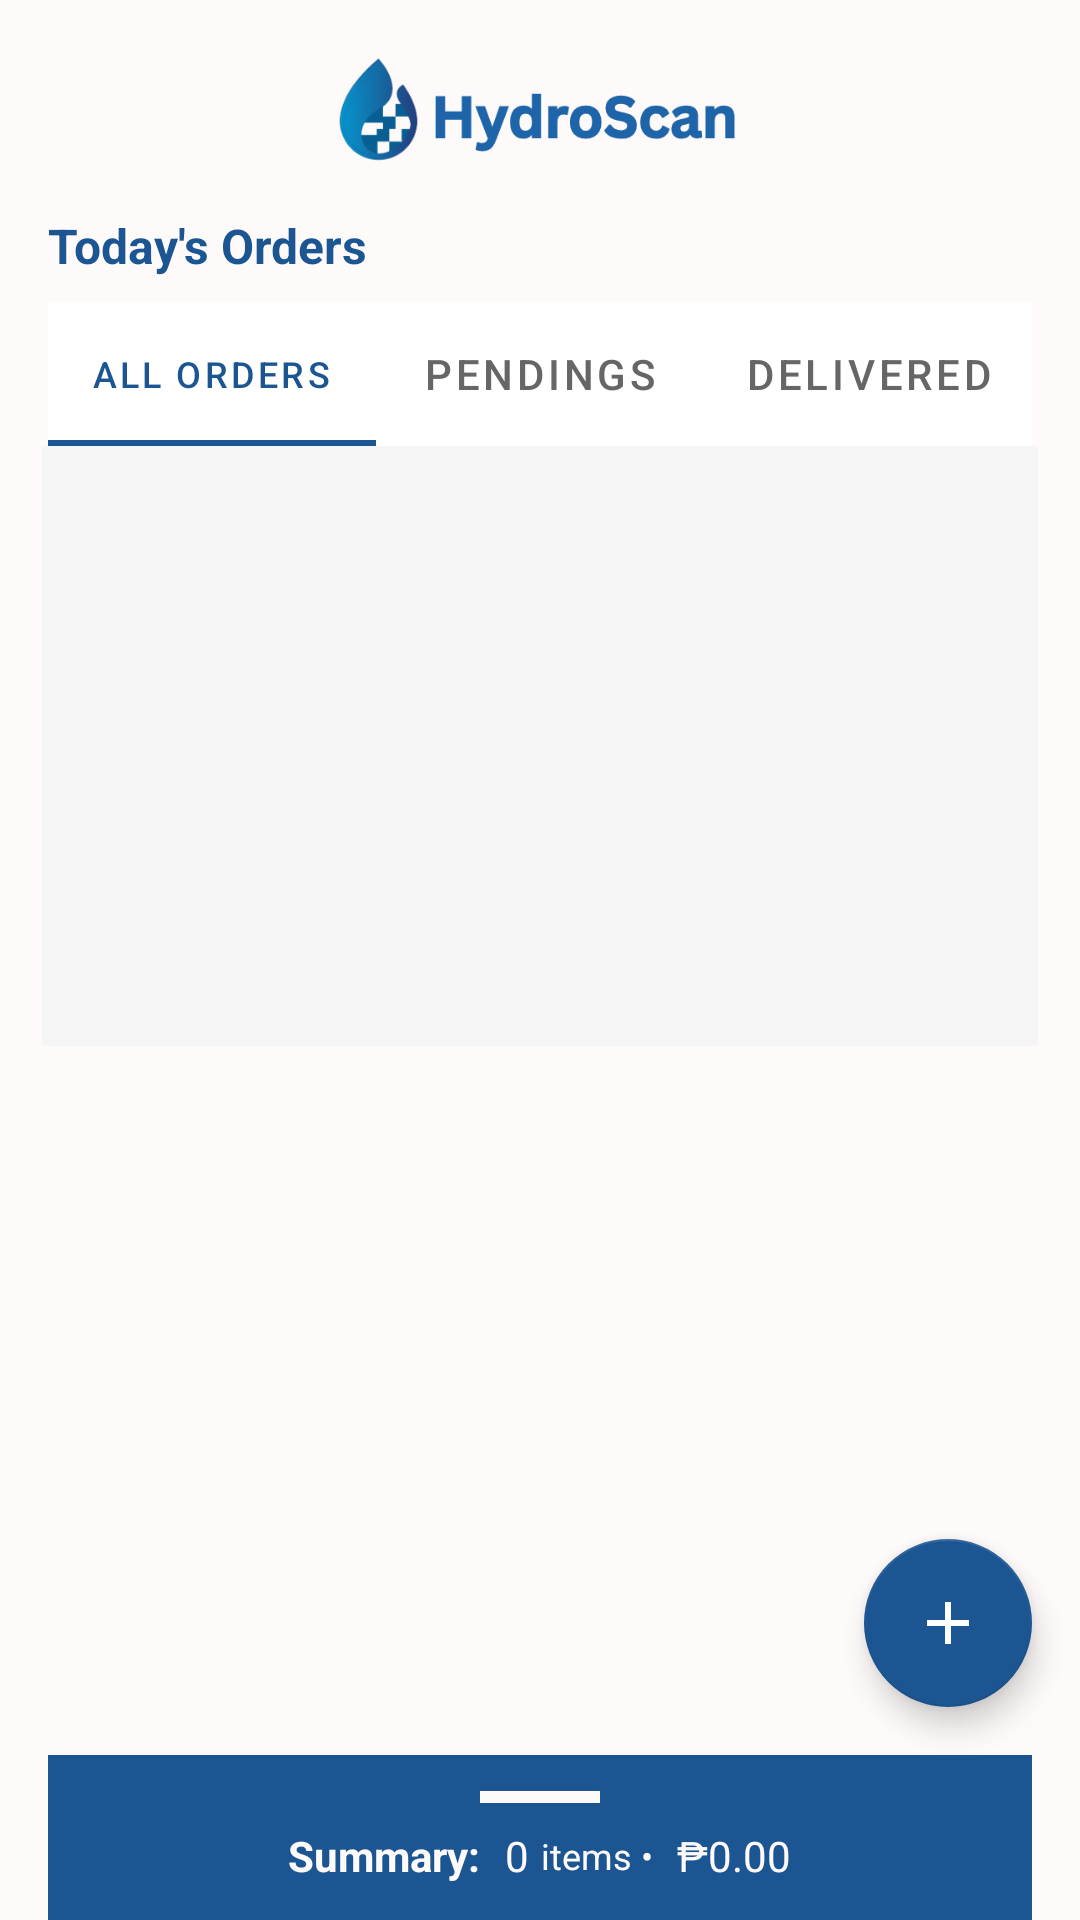

Icon click points for this 1080 × 1920 phone screenshot, format point (x, y):
Add Order: point (948, 1623)
